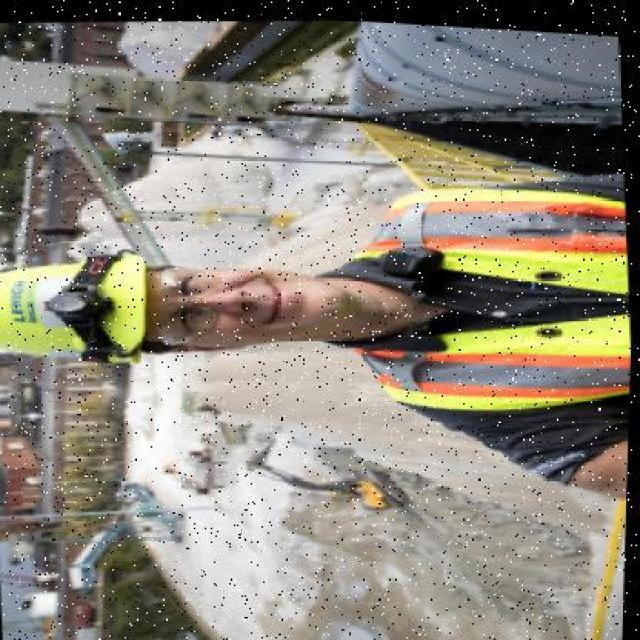helmet: (0, 236, 174, 372)
vest: (357, 163, 635, 417)
